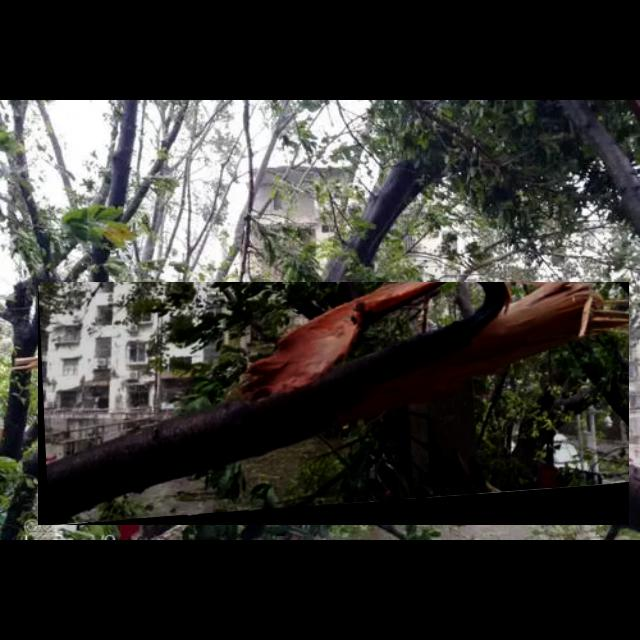Fallen Tree: (38, 282, 630, 526)
